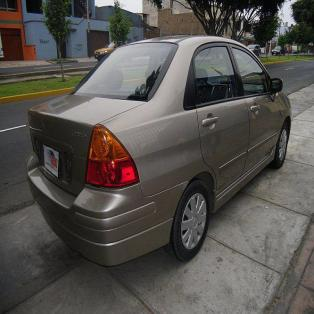Auto: (28, 32, 293, 266)
